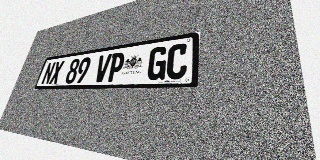8: (64, 58, 81, 84)
9: (74, 57, 92, 83)
C: (165, 43, 189, 80)
G: (146, 46, 168, 80)
N: (41, 62, 56, 85)
P: (106, 52, 126, 82)
V: (93, 54, 112, 83)
X: (49, 60, 65, 84)
